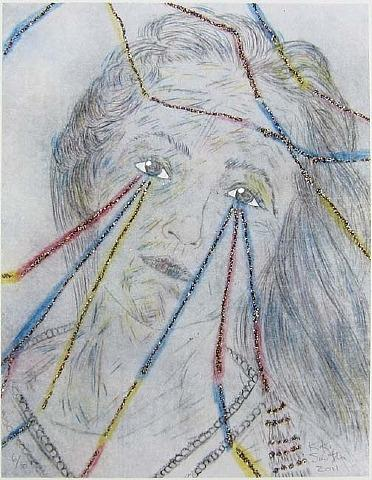person: (5, 7, 372, 473)
